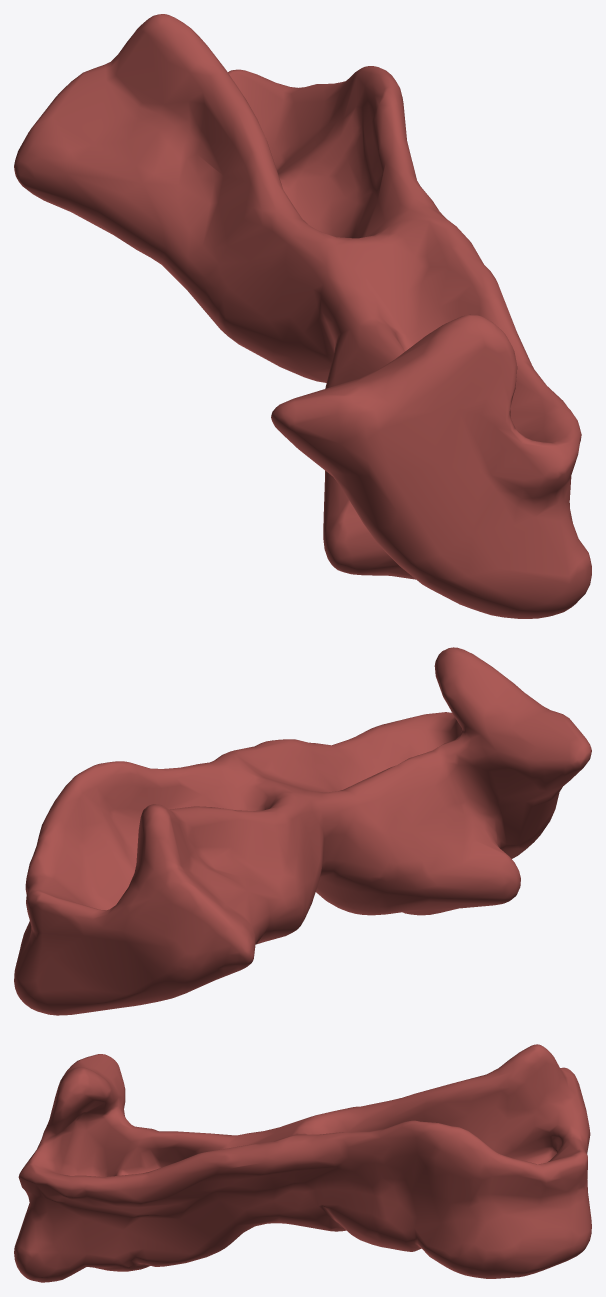
Rendered from FMA72690.glb.
3 renders of one model, top to bottom at view 1: azimuth 30°, elevation 25°; view 2: azimuth 150°, elevation 25°; view 3: azimuth 270°, elevation 25°, orthographic. The views are drawn at different scales.
Parts seen in each view (by area): view 1: FMA72690; view 2: FMA72690; view 3: FMA72690.
Boxes of the visible parts, x1,y1,x2,y2 form: FMA72690: (14,14,591,618); FMA72690: (14,647,591,1015); FMA72690: (14,1044,591,1282).
Bounding box in the file's own units: 0.0303 × 0.0254 × 0.0577.
